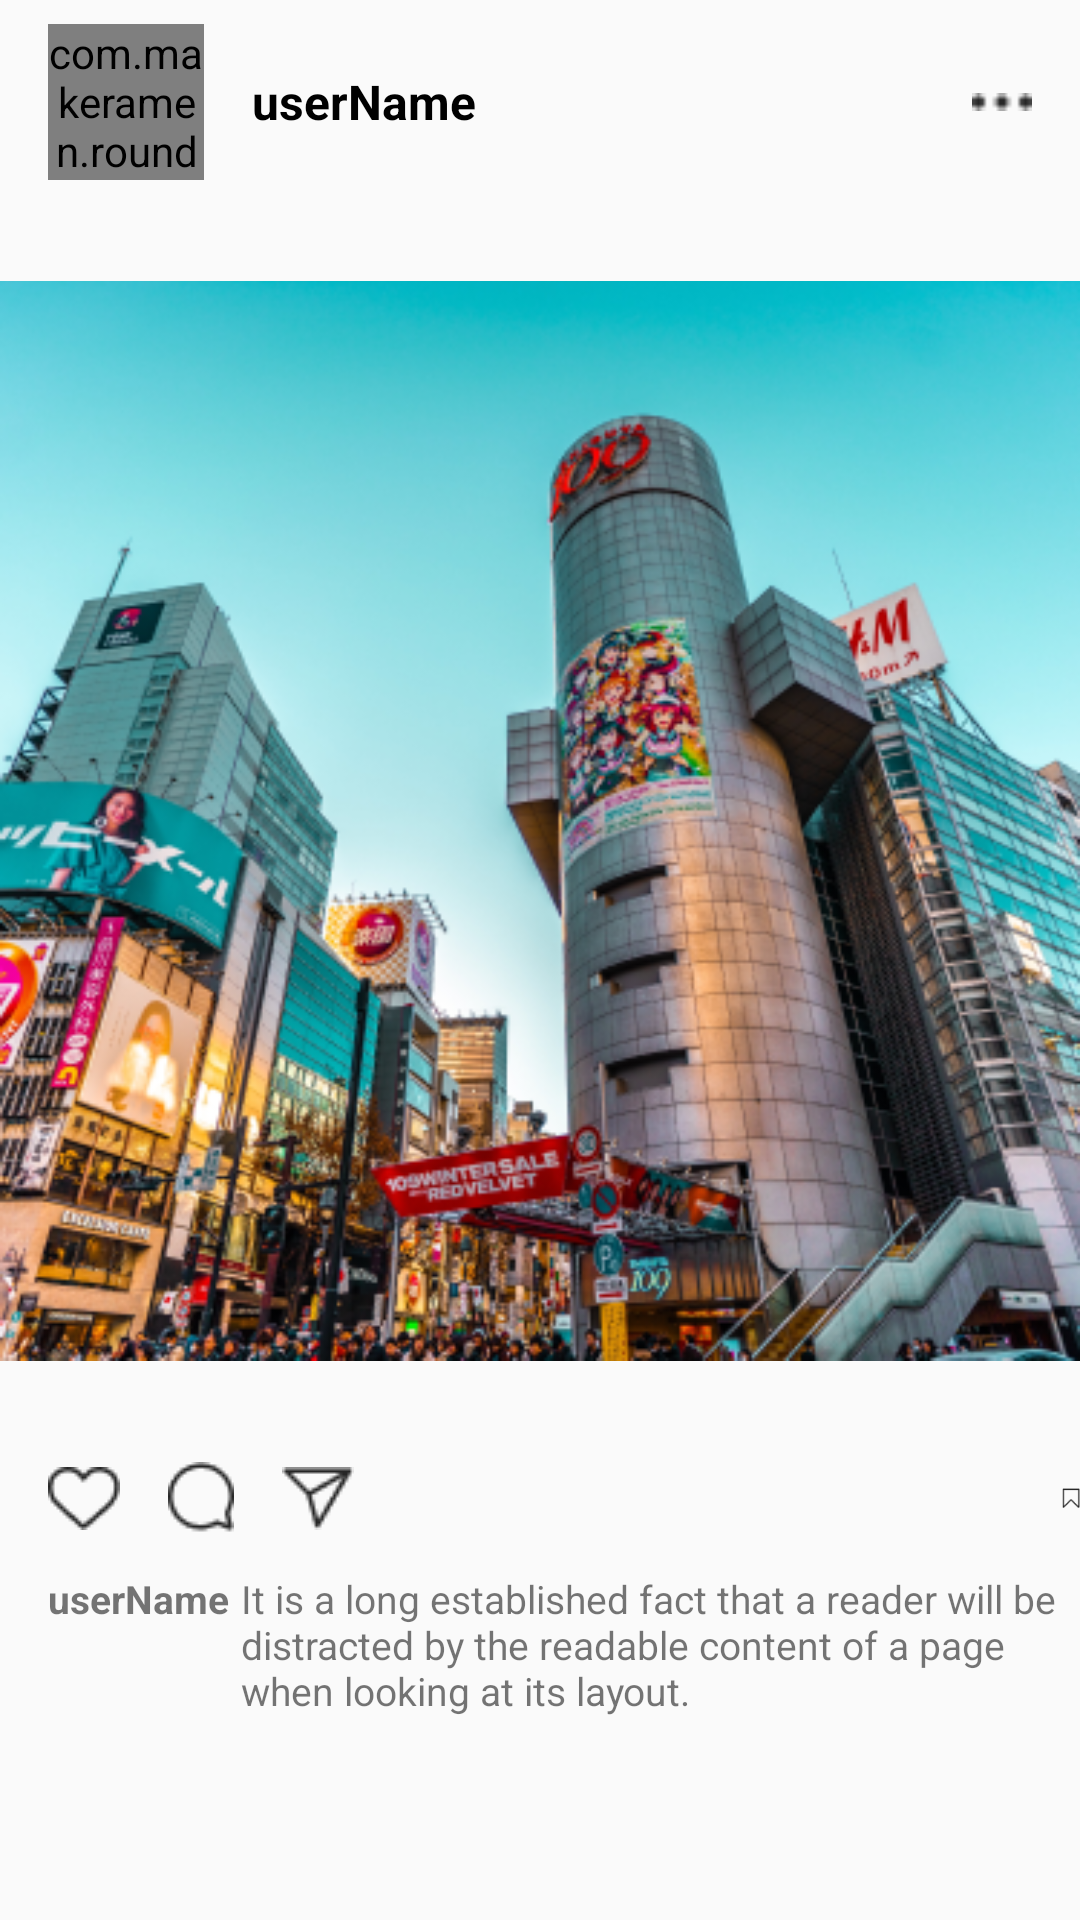

Locate icon controls on the screen. Image size 1080w x 1920h, boxes as (x1,y1,x2,y2).
comment: (168,1462,234,1532)
like: (48,1467,120,1530)
messanger: (282,1467,354,1530)
moreicon: (972,93,1032,111)
